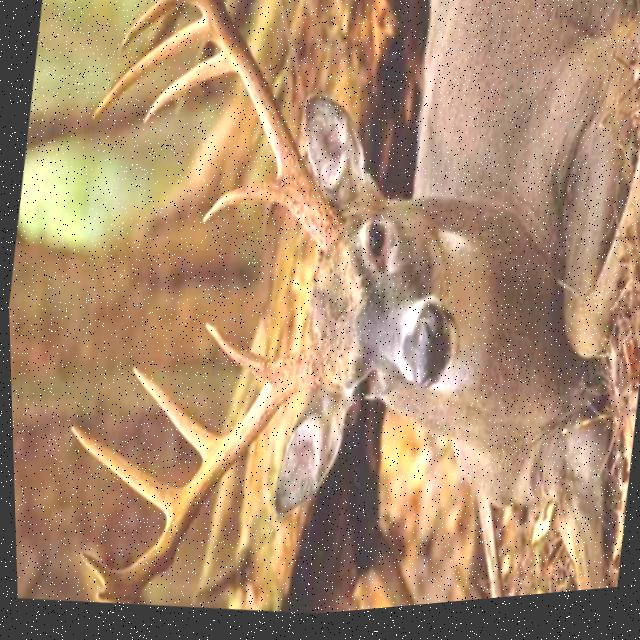E1: (75, 552, 116, 585)
L-F: (89, 356, 318, 606)
L-G1: (201, 325, 280, 387)
L-G2: (129, 369, 222, 468)
L-G3: (66, 425, 179, 526)
R-F: (198, 0, 339, 260)
R-G1: (199, 184, 280, 227)
R-G2: (140, 55, 236, 125)
R-G3: (90, 20, 211, 122)
R-G4: (118, 0, 198, 52)
